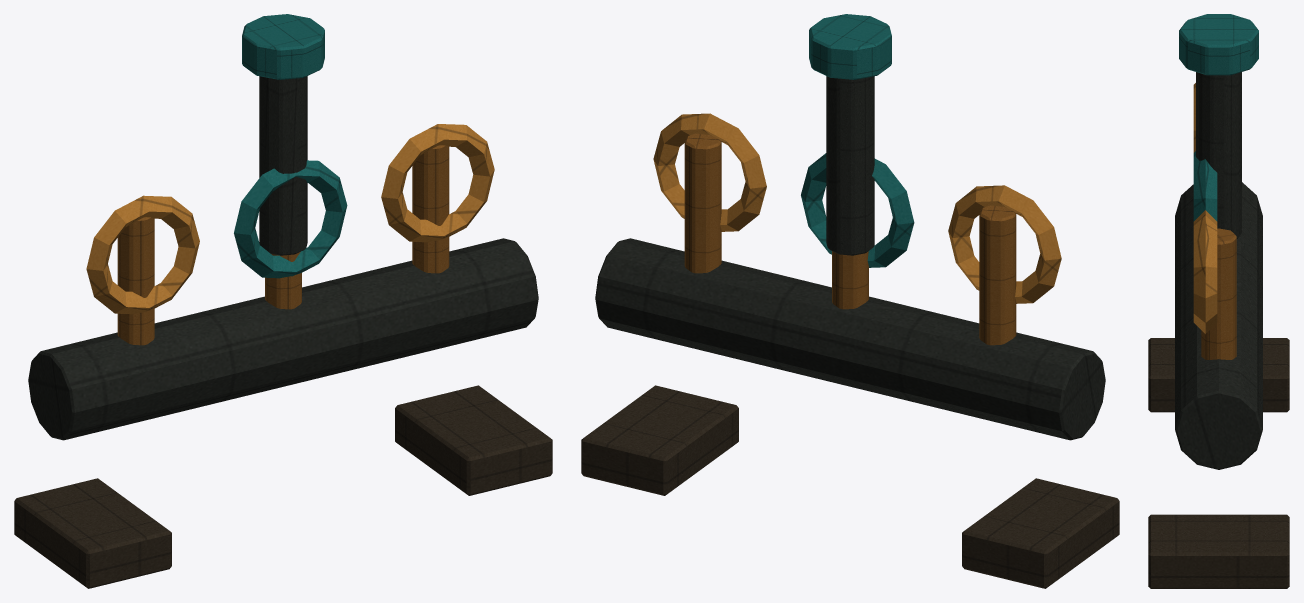
File: pressure-manifold.e2.glb
3 views of the same model, side by side, from view 1: azimuth 30°, elevation 25°; view 2: azimuth 150°, elevation 25°; view 3: azimuth 270°, elevation 25° (orthographic). The views are drawn at different scales.
Visible parts, largest first — view 1: PressureManifoldE2; view 2: PressureManifoldE2; view 3: PressureManifoldE2.
Boxes of the visible parts, left/top/right/bottom form: PressureManifoldE2: left=14, top=14, right=552, bottom=588; PressureManifoldE2: left=581, top=14, right=1119, bottom=588; PressureManifoldE2: left=1148, top=14, right=1289, bottom=588.
Bounding box in the file's own units: 1.52 × 1.48 × 0.42.
1 material, 1 textured.
